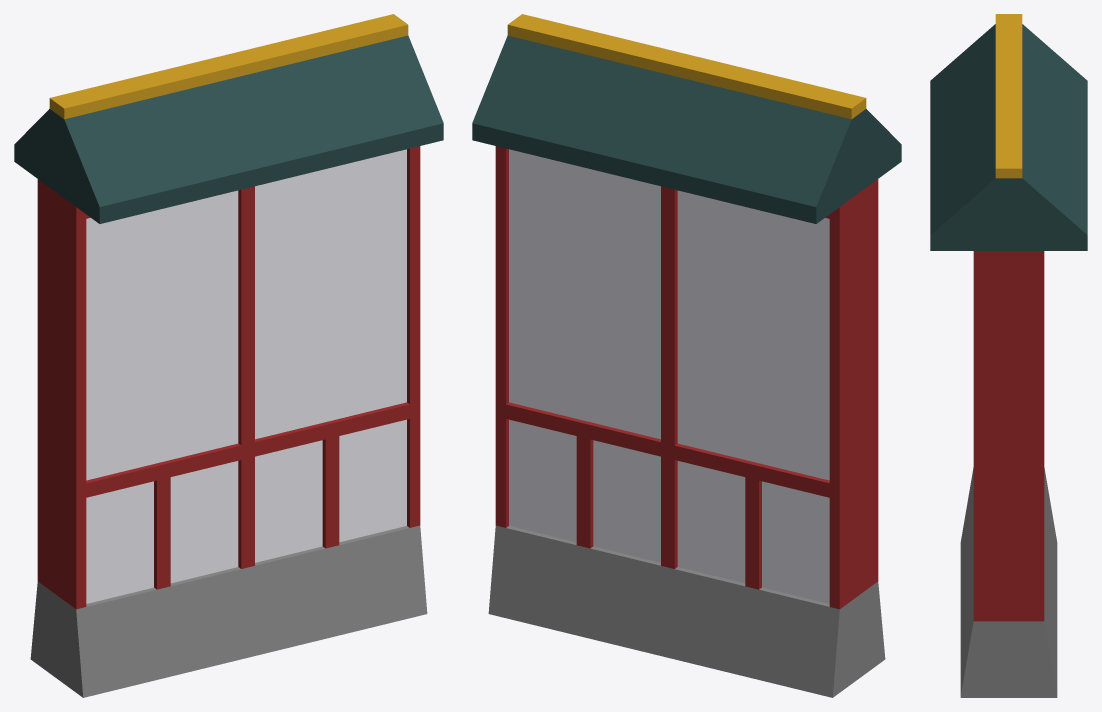
File: Asian_Prop_Building_Fence_Wall_Framed_Small_03.FBX
3 views of the same model, side by side, from view 1: azimuth 30°, elevation 25°; view 2: azimuth 150°, elevation 25°; view 3: azimuth 270°, elevation 25° (orthographic). The views are drawn at different scales.
Parts seen in each view (by area): view 1: Asian_Prop_Building_Fence_Wall_Framed_Small_03; view 2: Asian_Prop_Building_Fence_Wall_Framed_Small_03; view 3: Asian_Prop_Building_Fence_Wall_Framed_Small_03.
Part boxes in pixels (left/top/right/bottom): Asian_Prop_Building_Fence_Wall_Framed_Small_03: left=14, top=14, right=443, bottom=697; Asian_Prop_Building_Fence_Wall_Framed_Small_03: left=472, top=14, right=901, bottom=697; Asian_Prop_Building_Fence_Wall_Framed_Small_03: left=930, top=14, right=1087, bottom=697.
Size of the model in its own units: 2584 by 4128 by 1112.
